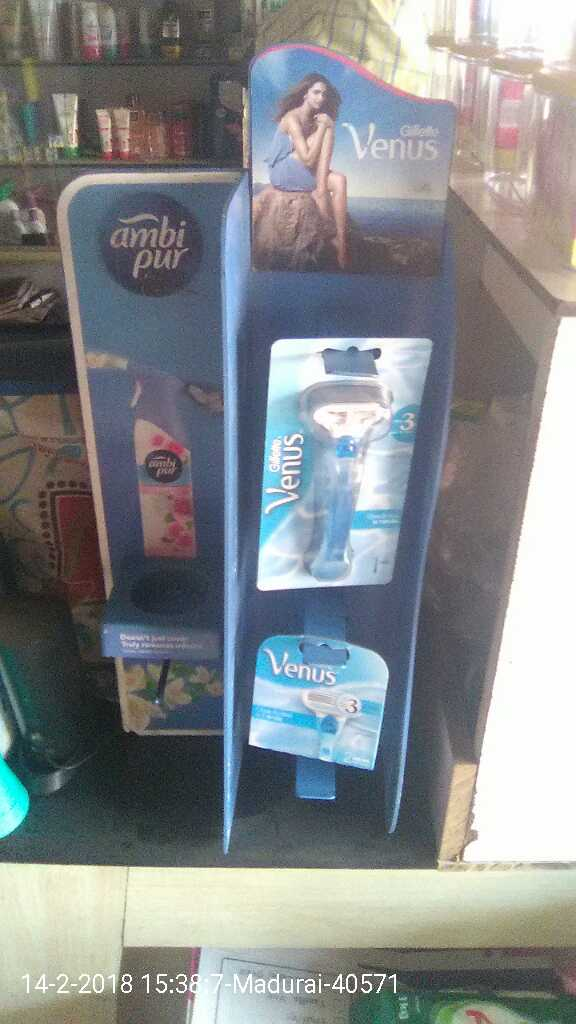venus: (268, 328, 405, 593), (231, 631, 401, 787)
